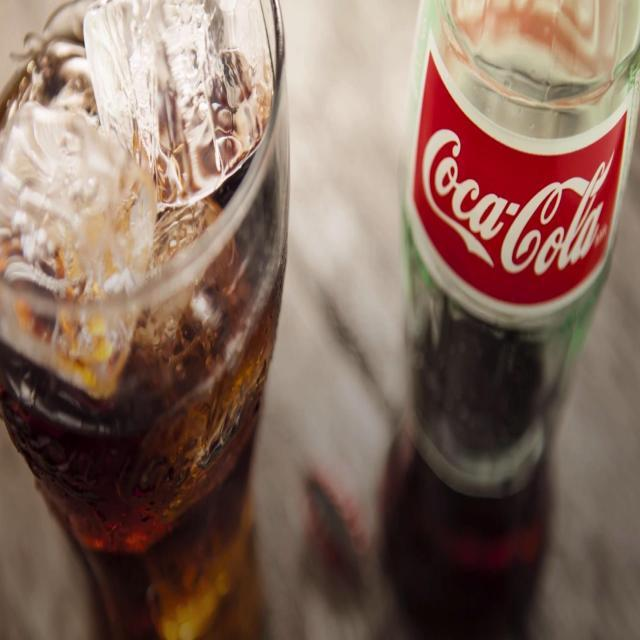Coke: (1, 2, 291, 640), (372, 7, 639, 640)
